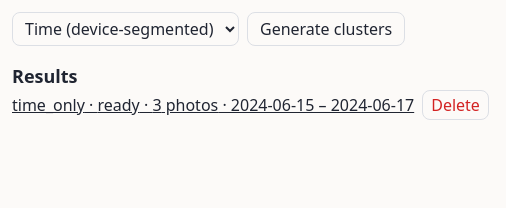
ClusterView › shows "not ready" when a result has no root yet
The width and height of the screenshot is (506, 208).
What coordinates should you click on to do the following:
click the button with test id "result-row"
I would click on:
 (213, 105)
Its box is [12, 93, 414, 117].
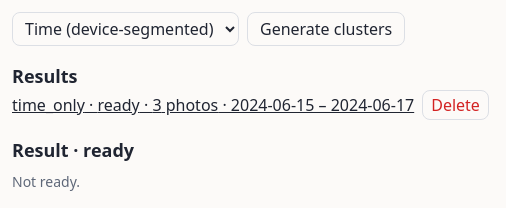
Now the text "Not ready." is shown, box [12, 172, 80, 191]
